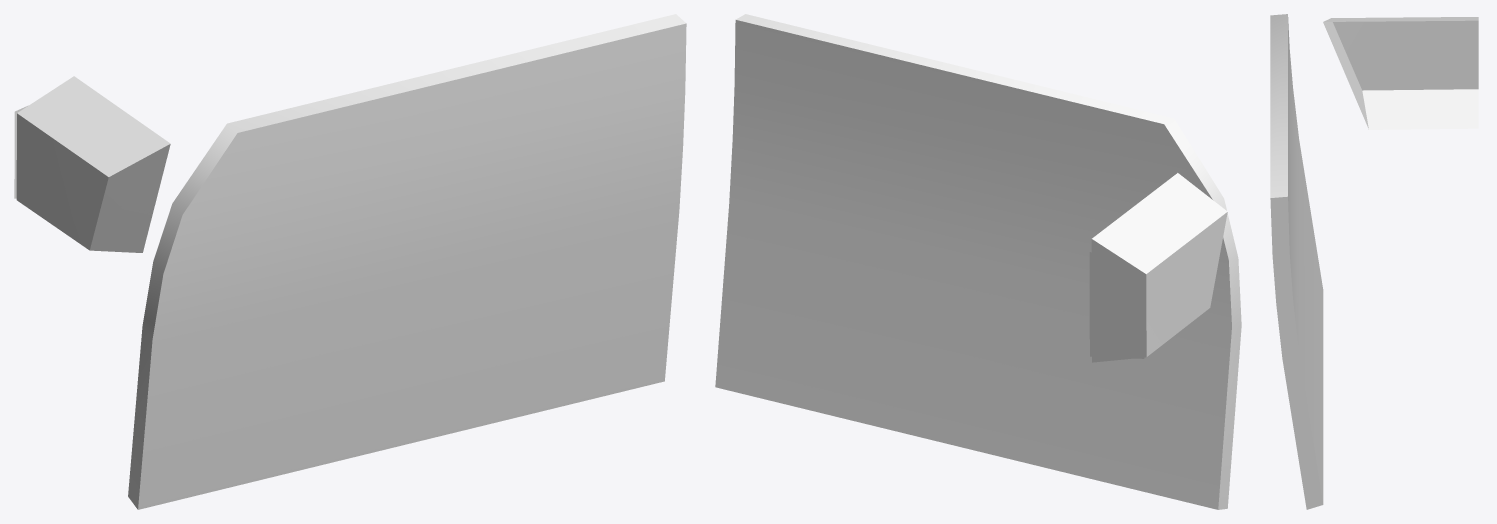
3 renders of one model, left to right at view 1: azimuth 30°, elevation 25°; view 2: azimuth 150°, elevation 25°; view 3: azimuth 270°, elevation 25°, orthographic. The views are drawn at different scales.
Bounding box in the file's own units: 0.2328 × 0.1533 × 0.0941.
1 material, 1 textured.
